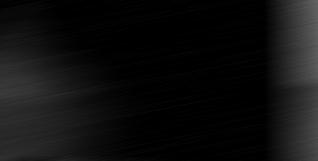Airbag: (0, 0, 318, 161), (297, 2, 318, 161)
